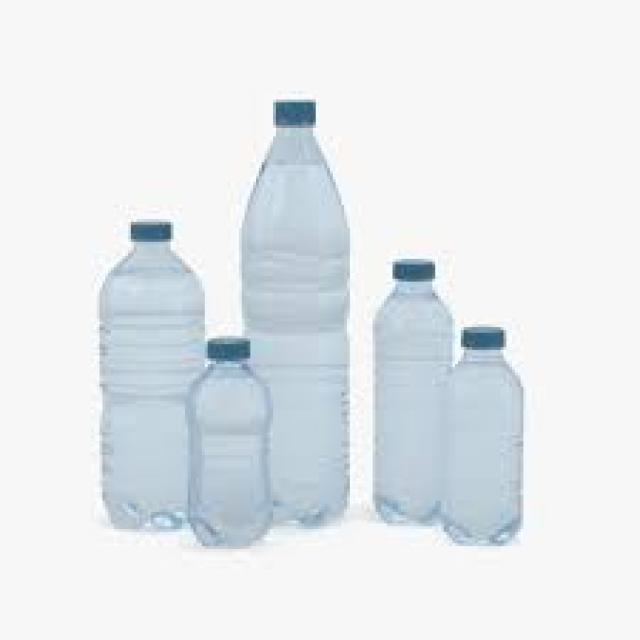Plastic: (244, 99, 352, 524), (99, 220, 204, 534), (376, 257, 452, 523), (443, 316, 522, 550), (191, 332, 275, 547)
